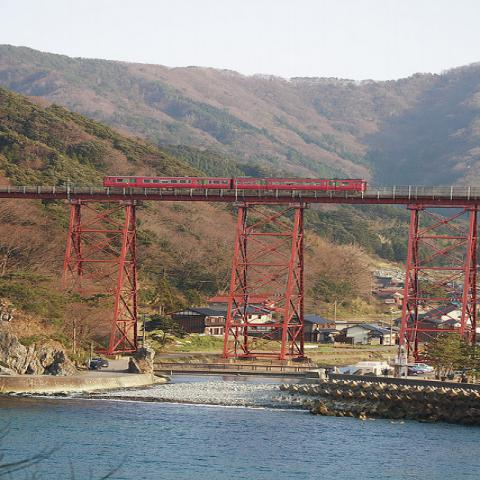car: (408, 365, 433, 373), (414, 362, 434, 370), (407, 367, 424, 374), (89, 362, 103, 370)
